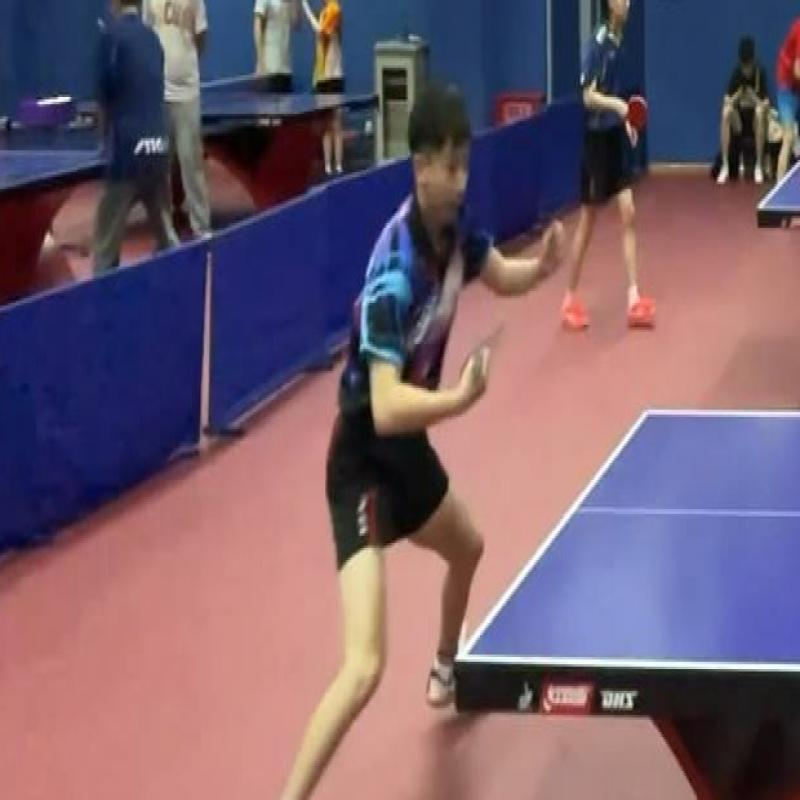bats: (463, 306, 523, 395)
